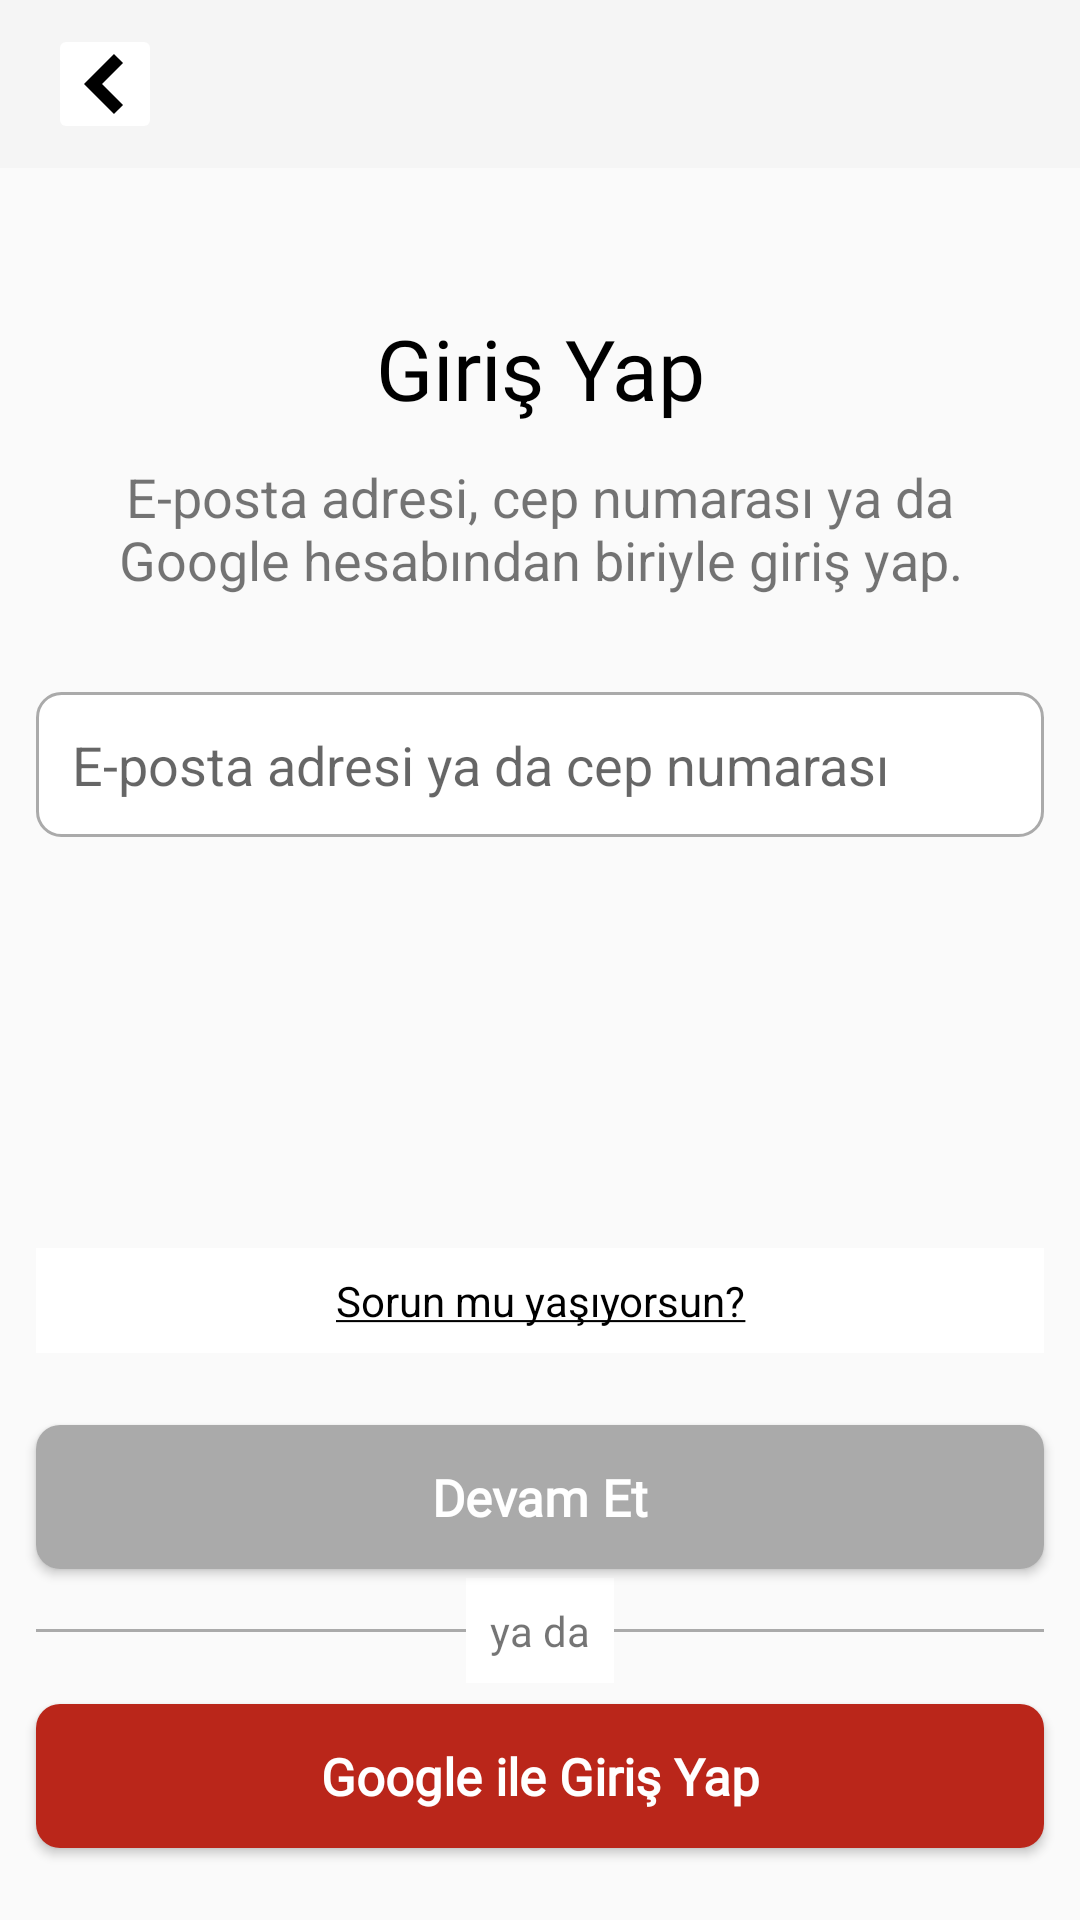

Locate icon controls on the screen. Image size 1080px×1920px, boxes as detection(x1, y1, x2, y2).
arrow back: detection(60, 42, 150, 126)
